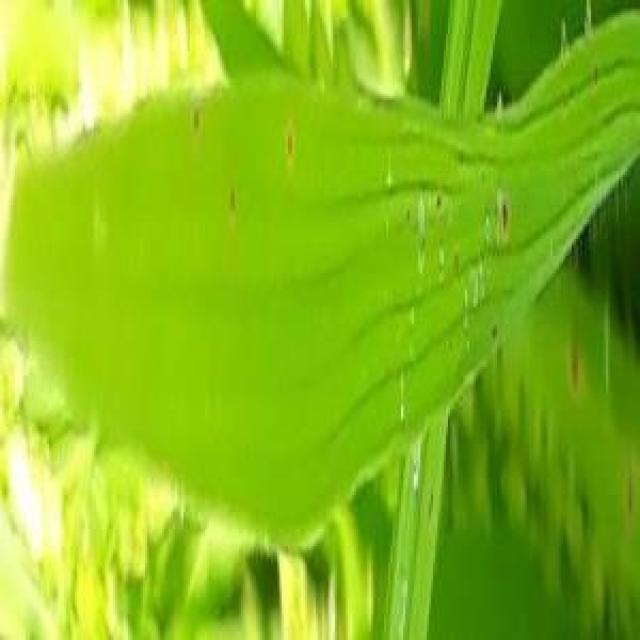Brown_Spot: (488, 178, 530, 238), (276, 122, 307, 176), (223, 186, 245, 233), (566, 347, 587, 394), (184, 108, 215, 138)
